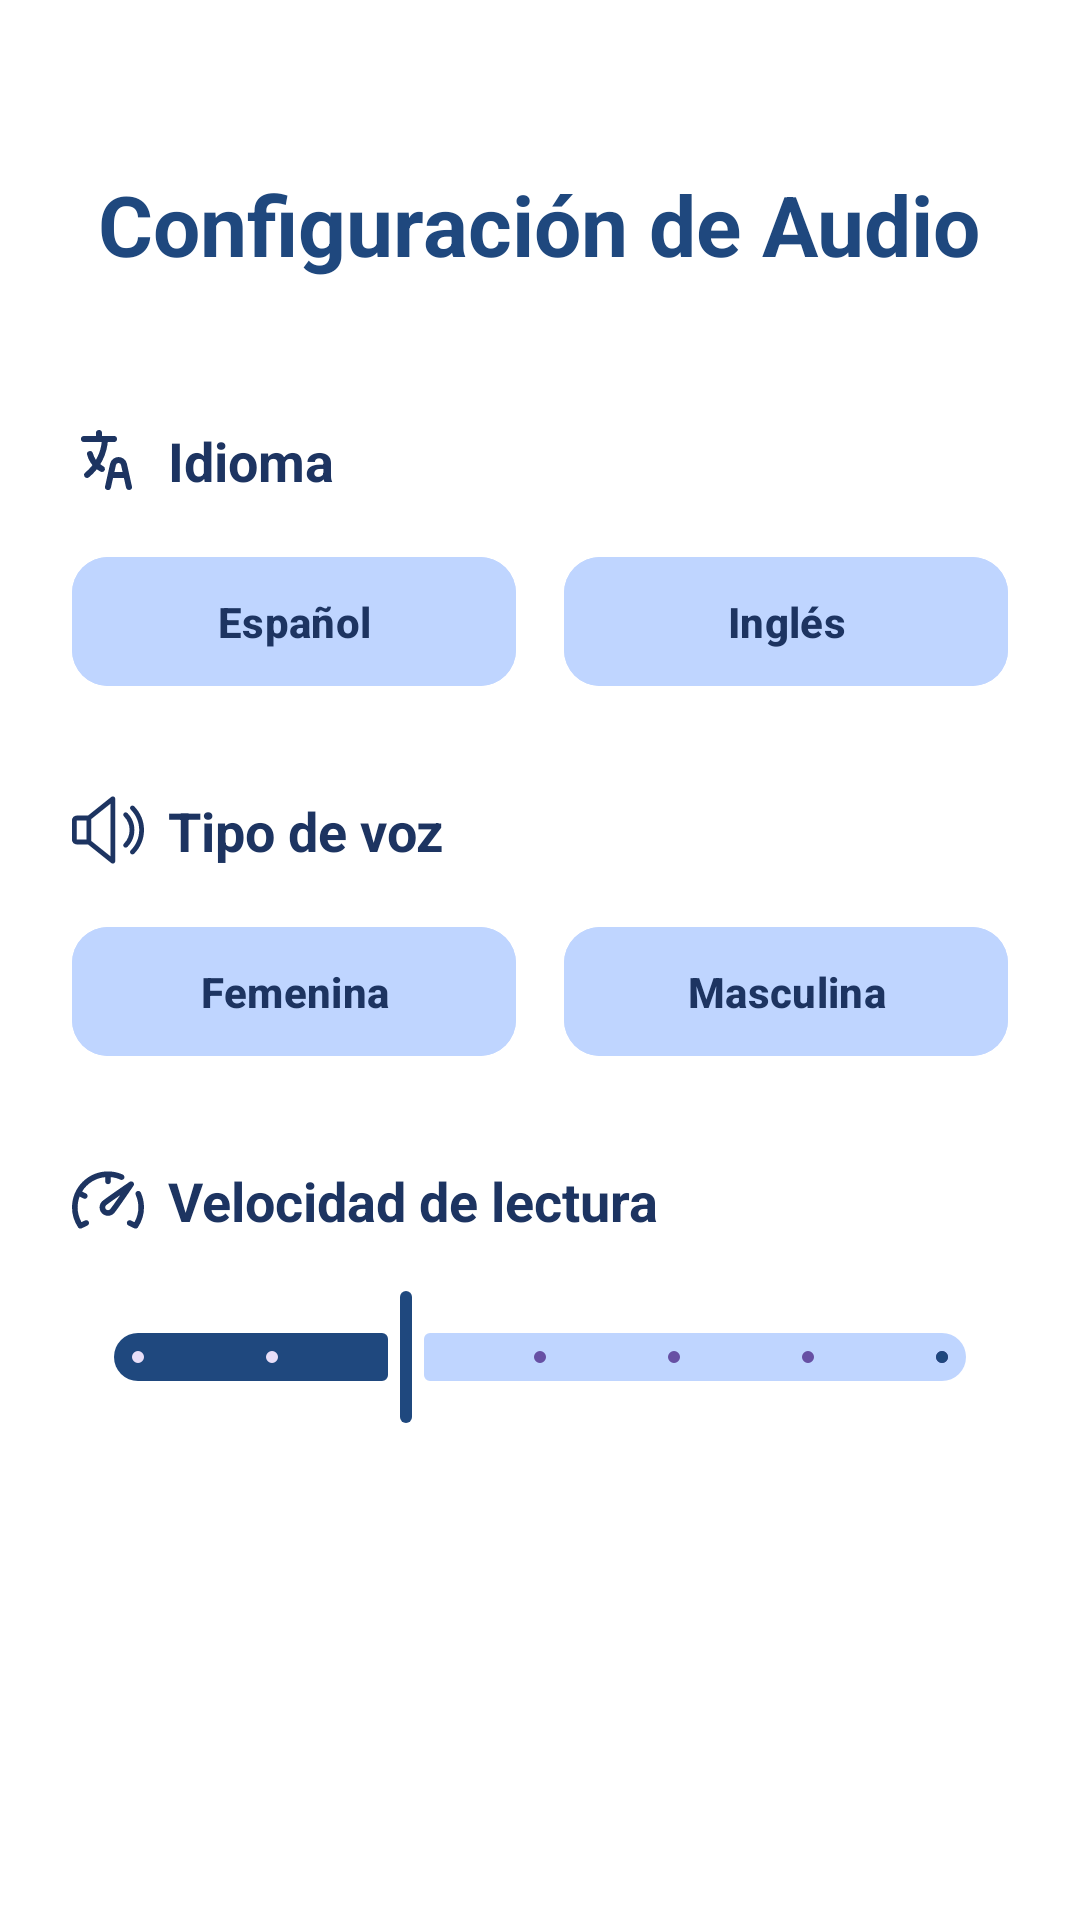

Named icons in this screenshot (1080w x 1920h) and their bounding boxes, (x1, y1, x2, y2):
sonido: (72, 796, 144, 864)
